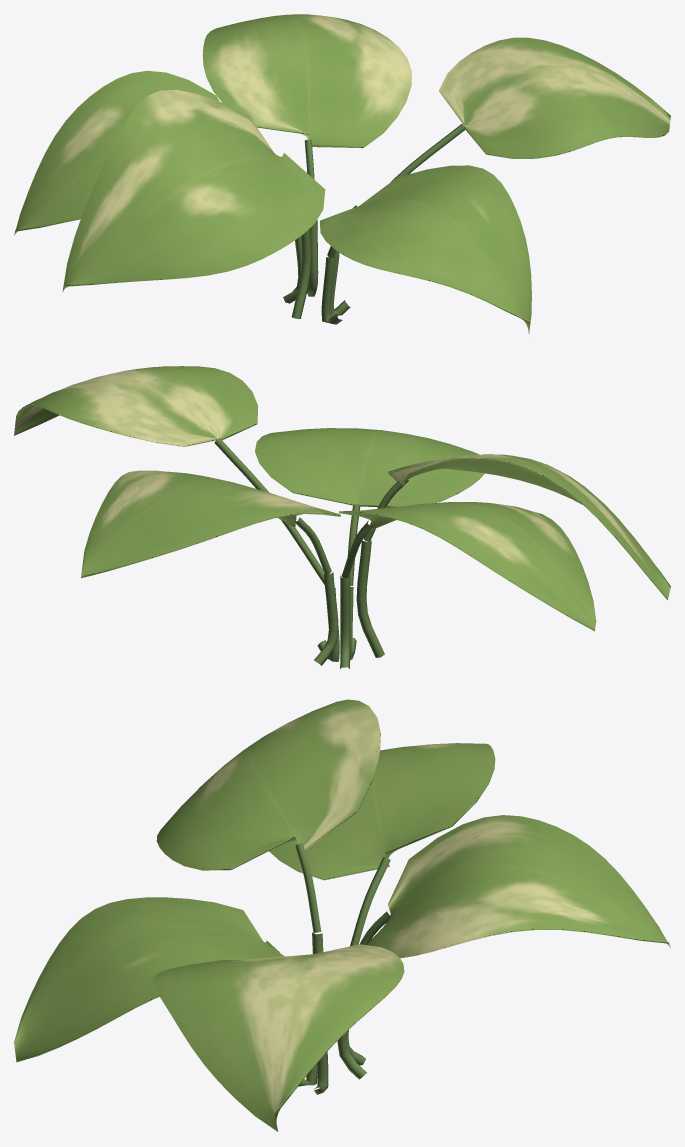
File: pothos-stage-1.glb
3 renders of one model, top to bottom at view 1: azimuth 30°, elevation 25°; view 2: azimuth 150°, elevation 25°; view 3: azimuth 270°, elevation 25°, orthographic. The views are drawn at different scales.
Visible parts, largest first — view 1: Leaf_2, Leaf_1, Leaf_0, Leaf_3, Leaf_4, PlantBranches; view 2: Leaf_1, Leaf_3, Leaf_0, Leaf_4, PlantBranches, Leaf_2; view 3: Leaf_1, Leaf_3, Leaf_2, Leaf_0, Leaf_4, PlantBranches.
Part boxes in pixels (<box>): Leaf_2: <box>62,89,325,292</box>; Leaf_1: <box>202,14,411,148</box>; Leaf_0: <box>320,165,531,333</box>; Leaf_3: <box>439,37,670,158</box>; Leaf_4: <box>14,70,219,235</box>; PlantBranches: <box>283,124,465,324</box>; Leaf_1: <box>81,470,340,578</box>; Leaf_3: <box>14,366,257,446</box>; Leaf_0: <box>255,428,484,507</box>; Leaf_4: <box>339,502,596,631</box>; PlantBranches: <box>214,438,408,669</box>; Leaf_2: <box>388,454,670,599</box>; Leaf_1: <box>366,815,670,958</box>; Leaf_3: <box>153,944,404,1131</box>; Leaf_2: <box>156,699,380,870</box>; Leaf_0: <box>14,897,284,1062</box>; Leaf_4: <box>269,743,495,880</box>; PlantBranches: <box>265,843,390,1094</box>.
Bounding box in the file's own units: 1.71 × 0.656 × 1.35.
Materials: 2 (1 with a texture image).
